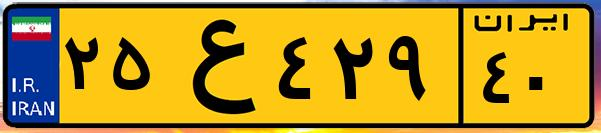0: (525, 38, 570, 115)
2: (330, 28, 385, 110), (57, 26, 110, 100)
4: (270, 28, 330, 110), (475, 38, 525, 113)
5: (110, 28, 158, 98)
9: (385, 28, 445, 110)
ع: (158, 12, 270, 120)
